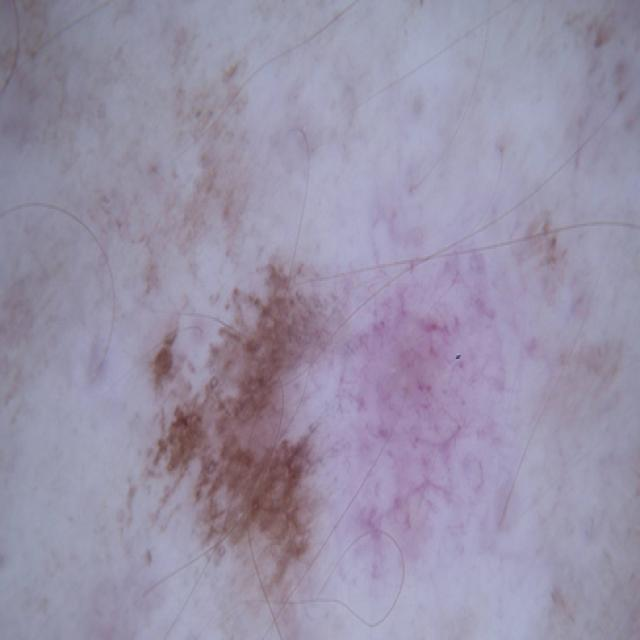Keratosis: (145, 199, 551, 640)
